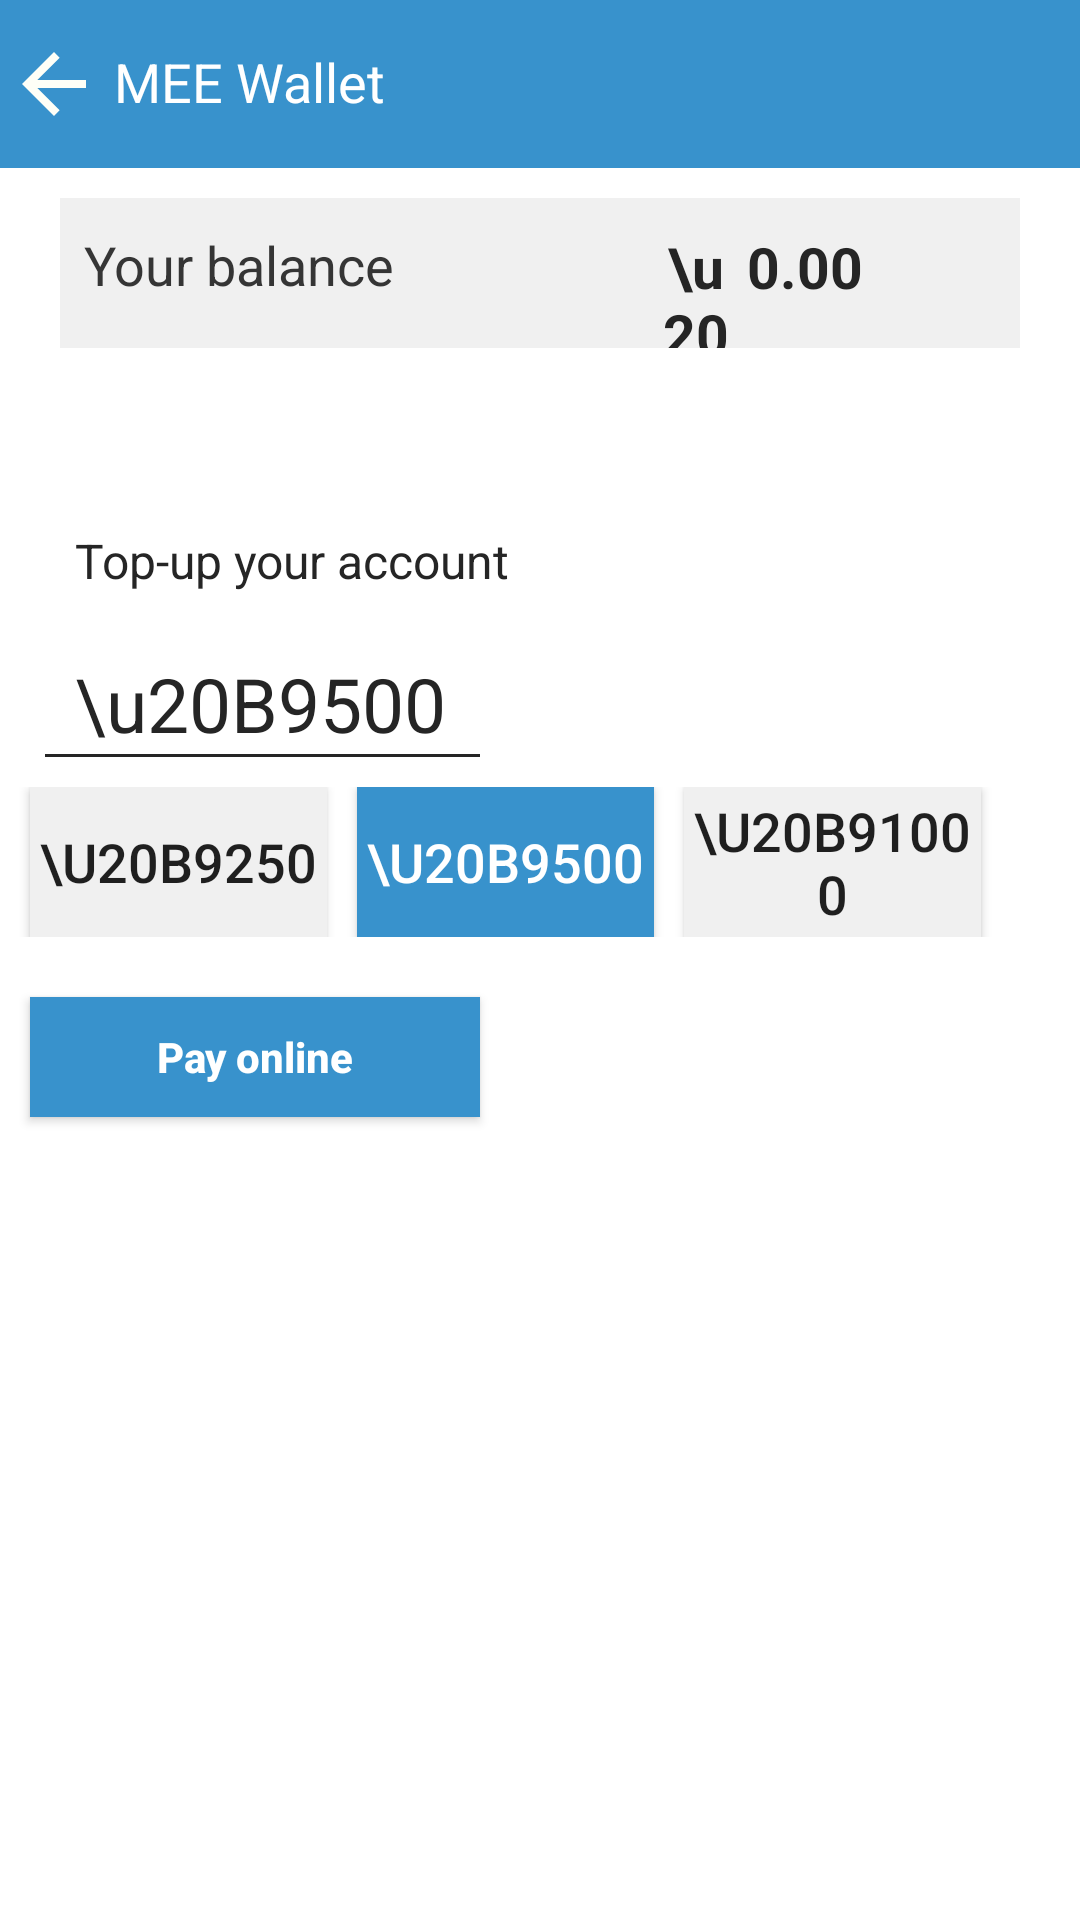

Screen size 1080 × 1920. Icon name, then its center in pixels as (x=x, y=y):
arrow back: (x=54, y=84)
